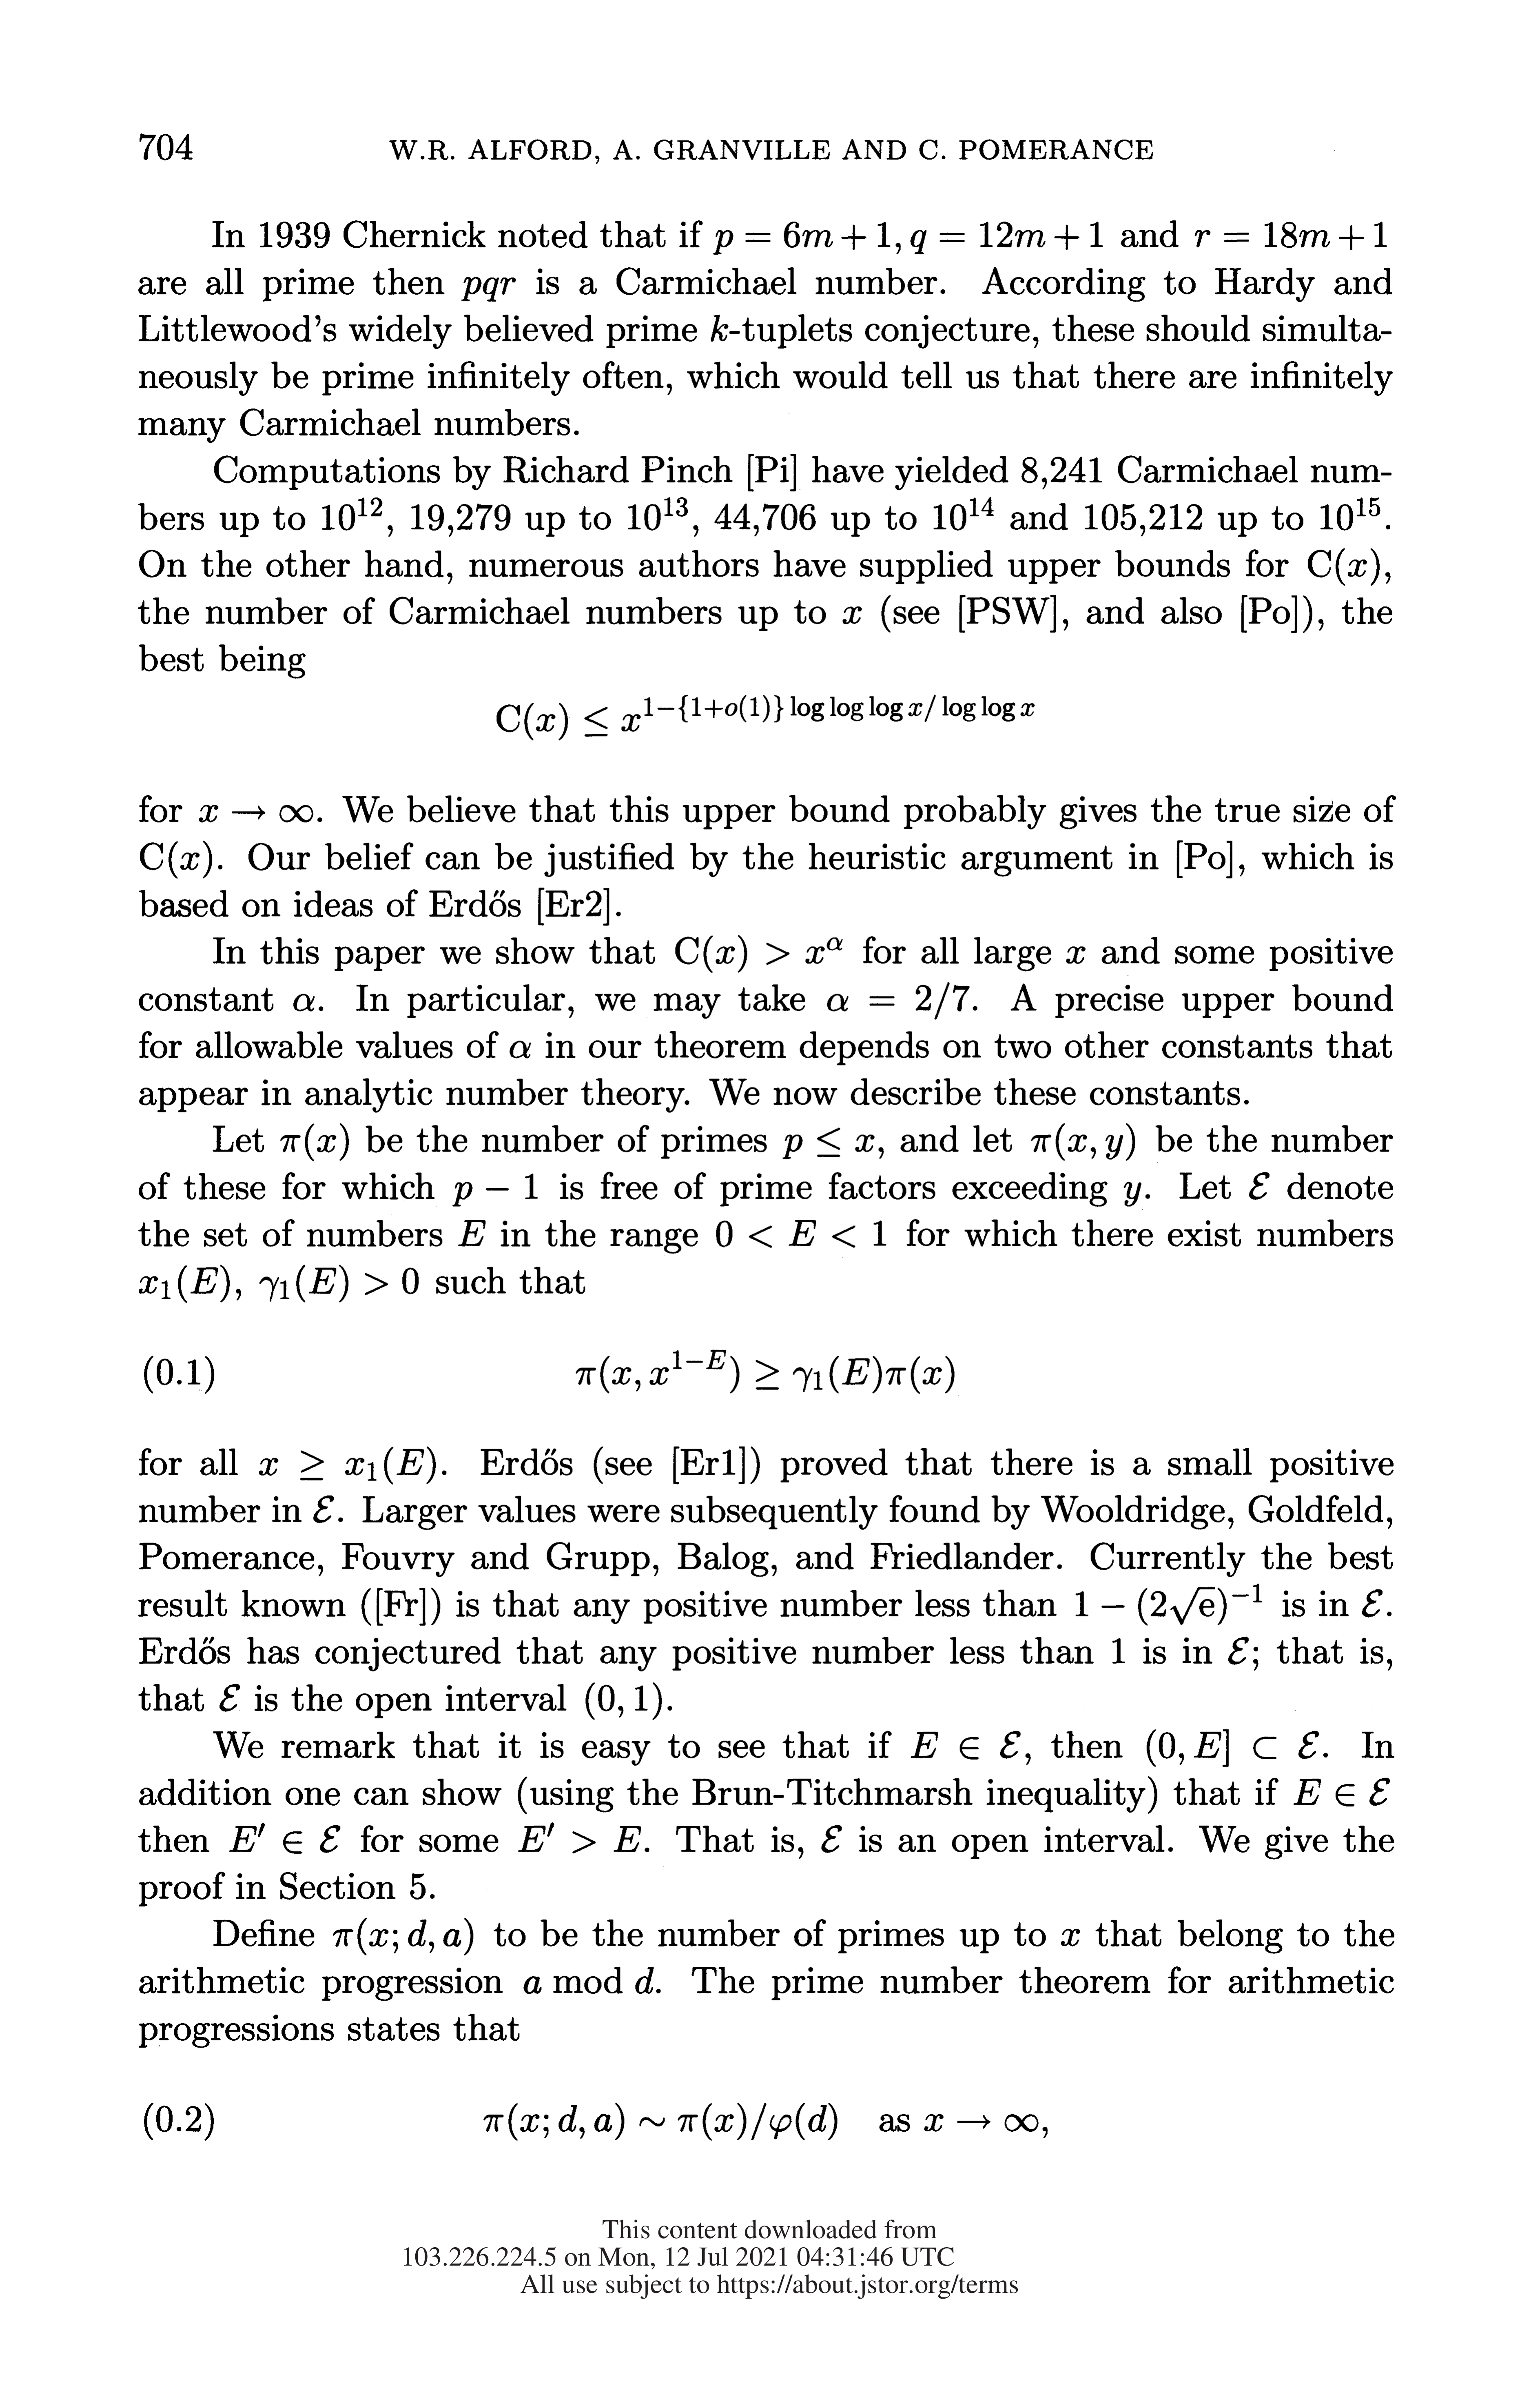maths: (496, 695, 1035, 741), (575, 1350, 954, 1394), (484, 2103, 837, 2139), (1075, 1583, 1261, 1625), (260, 1446, 435, 1485), (1147, 1729, 1319, 1767), (910, 221, 1103, 254), (714, 221, 902, 254), (675, 935, 842, 972), (260, 1265, 417, 1302), (1194, 221, 1387, 249), (828, 983, 970, 1020), (333, 1918, 474, 1955), (716, 1220, 886, 1248), (517, 1822, 640, 1853), (1031, 1123, 1135, 1160), (139, 1265, 240, 1302), (230, 1824, 340, 1853), (910, 1731, 1021, 1759), (140, 841, 223, 878), (782, 1127, 873, 1158), (323, 497, 393, 537), (628, 497, 698, 537), (586, 1683, 661, 1720), (453, 1174, 537, 1206), (1294, 1778, 1389, 1806), (553, 1967, 652, 1994), (1308, 548, 1379, 584), (281, 1123, 349, 1160), (200, 804, 321, 821), (933, 497, 993, 530), (1321, 497, 1380, 530), (924, 2115, 1038, 2131), (461, 277, 516, 302), (458, 1220, 486, 1246), (1249, 1172, 1270, 1200), (821, 1825, 842, 1853), (1228, 1638, 1249, 1664), (219, 1685, 240, 1711), (314, 1495, 333, 1523), (293, 993, 323, 1011), (1363, 1590, 1382, 1616), (1124, 1181, 1142, 1206), (509, 1041, 530, 1058), (1066, 946, 1086, 964), (1061, 1929, 1080, 1946), (844, 606, 861, 623)
